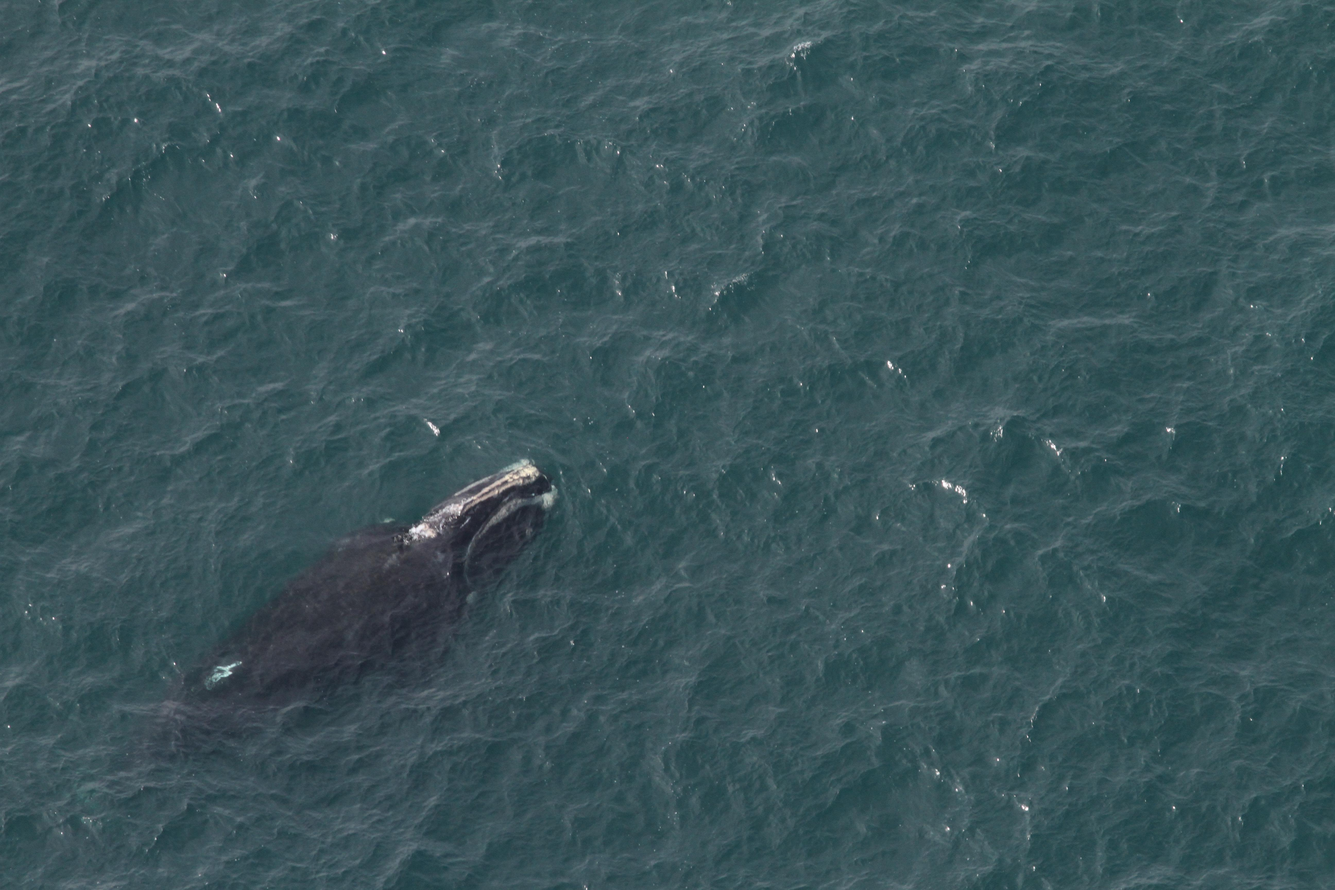whale: (120, 455, 568, 764)
